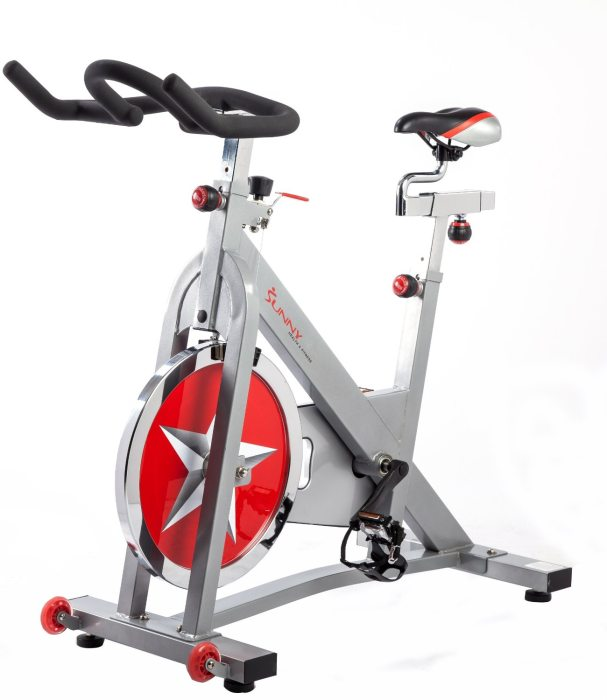gym_bike: (3, 58, 582, 691)
